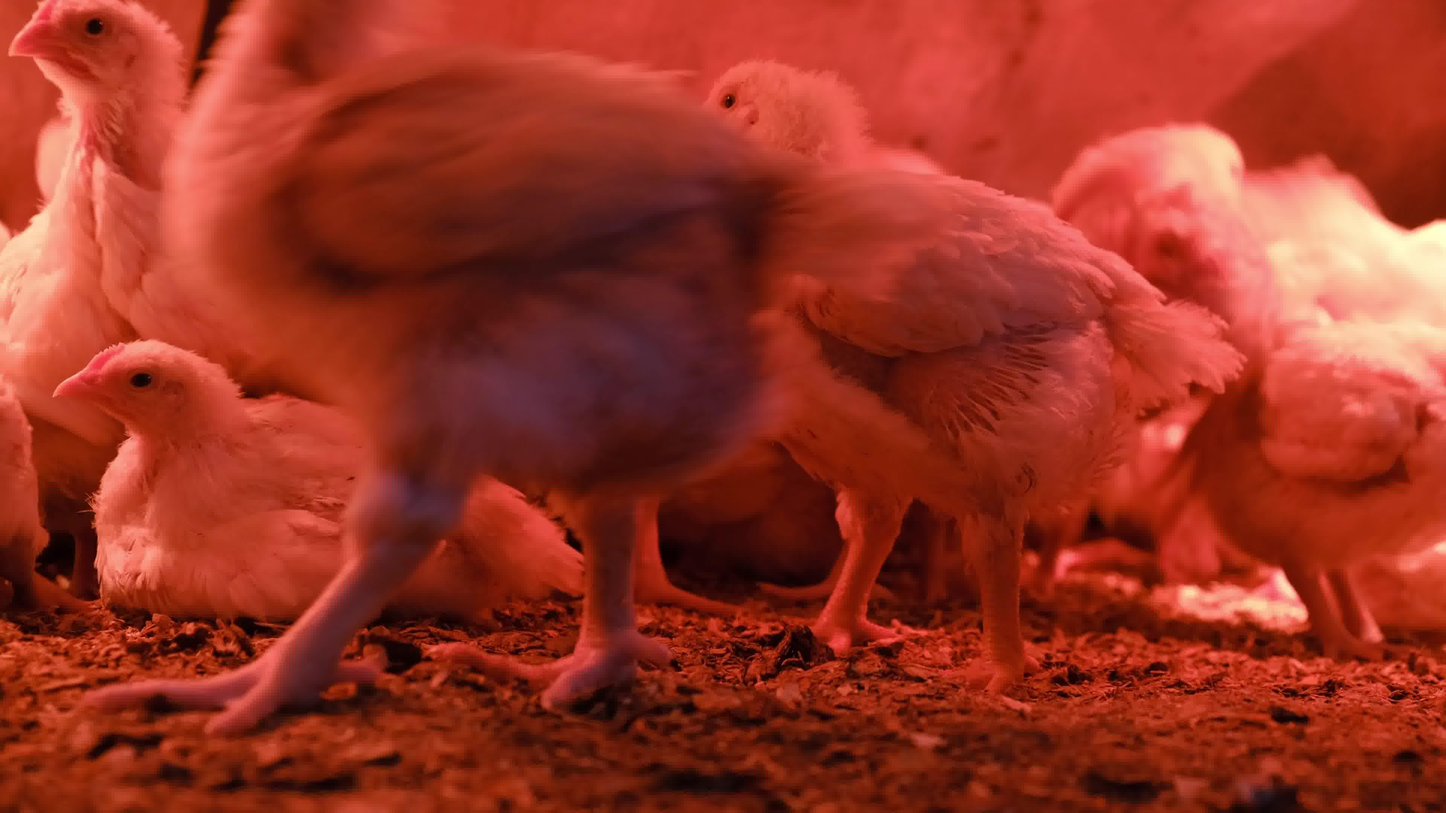AbNormal: (43, 311, 559, 679), (0, 288, 105, 732)
Normal: (175, 0, 789, 757), (702, 43, 1177, 683), (2, 0, 260, 322), (1237, 263, 1446, 642), (1039, 113, 1275, 431)
